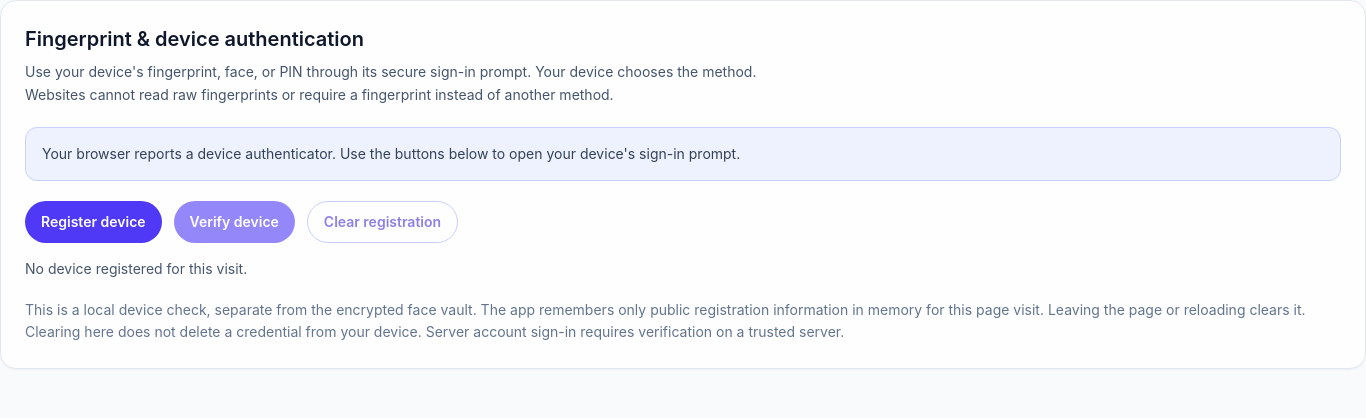
shows safe retryable errors
The width and height of the screenshot is (1366, 418).
Expected: the text "Your browser reports a device authenticator" is shown, left=42, top=144, right=740, bottom=162
Click the button "Register device" at [93, 222], box left=25, top=200, right=162, bottom=242
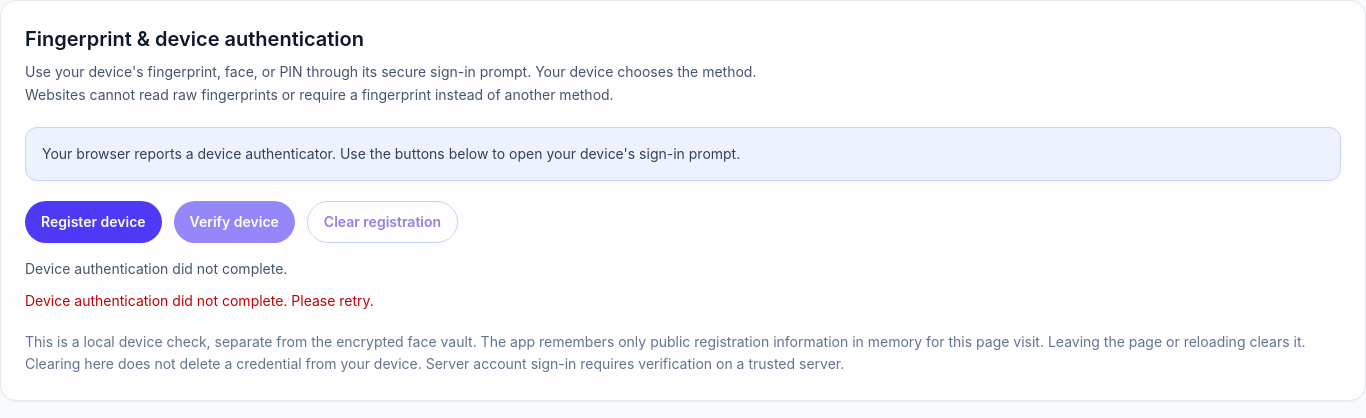
Now the message "Device authentication did not complete. Please retry." is shown, box left=25, top=292, right=374, bottom=308
